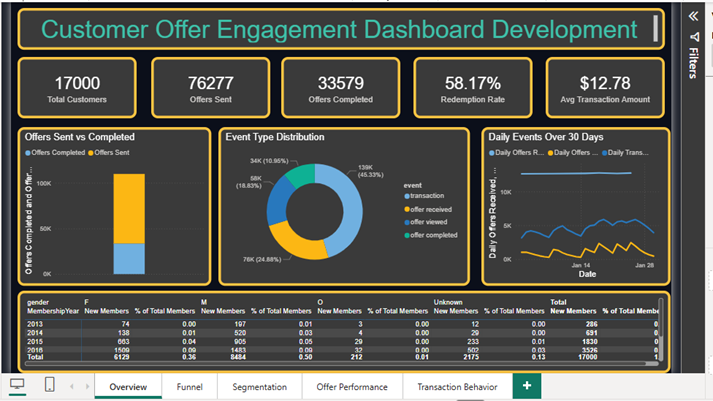

The page's visual inventory and layout, read from the dashboard file:
{"tool":"powerbi","page":{"name":"Overview","canvas":[1280,720],"ordinal":0},"visuals":[{"type":"textbox","box":[12.1,11.3,1255.7,80.8],"z":0},{"type":"card","fields":{"Values":["_Measures.Total Customers"]},"box":[12.8,106.3,231,119.1],"z":1000},{"type":"card","fields":{"Values":["_Measures.Offers Sent"]},"box":[272.1,106.3,231,119.1],"z":2000},{"type":"card","fields":{"Values":["_Measures.Offers Completed"]},"box":[524.4,106.3,231,119.1],"z":3000},{"type":"card","fields":{"Values":["_Measures.Redemption Rate"]},"box":[780.9,106.3,231,119.1],"z":4000},{"type":"card","fields":{"Values":["_Measures.Avg Transaction Amount"]},"box":[1037.5,106.3,231,119.1],"z":5000},{"type":"columnChart","title":"Offers Sent vs Completed","fields":{"Y":["_Measures.Offers Completed","_Measures.Offers Sent"]},"box":[12.8,242.4,375.6,307.6],"z":6000},{"type":"donutChart","title":"Event Type Distribution","fields":{"Category":["FactEvents.event"],"Y":["_Measures.Total Events"]},"box":[402.5,242.4,487.6,307.6],"z":7000},{"type":"lineChart","title":"Daily Events Over 30 Days","fields":{"Category":["DimDate.Date"],"Y":["DimCustomer.Daily Offers Received","DimCustomer.Daily Offers Completed","DimCustomer.Daily Transactions"]},"box":[912.8,242.4,367.1,307.6],"z":8000},{"type":"pivotTable","fields":{"Rows":["DimCustomer.MembershipYear"],"Columns":["DimCustomer.gender"],"Values":["DimCustomer.New Members","_Measures.% of Total Members"]},"box":[12.8,559.8,1267.1,160.2],"z":9000}]}

Visuals, with their boxes on the page's 1280x720 design canvas (x1, y1, x2, y2). These are canvas units, not pixel positions in the 713x401 screenshot, which may show the page scaled, cropped or inside an application window:
textbox: {"x1": 12, "y1": 11, "x2": 1268, "y2": 92}
card - _Measures.Total Customers: {"x1": 13, "y1": 106, "x2": 244, "y2": 225}
card - _Measures.Offers Sent: {"x1": 272, "y1": 106, "x2": 503, "y2": 225}
card - _Measures.Offers Completed: {"x1": 524, "y1": 106, "x2": 755, "y2": 225}
card - _Measures.Redemption Rate: {"x1": 781, "y1": 106, "x2": 1012, "y2": 225}
card - _Measures.Avg Transaction Amount: {"x1": 1038, "y1": 106, "x2": 1268, "y2": 225}
"Offers Sent vs Completed" columnChart: {"x1": 13, "y1": 242, "x2": 388, "y2": 550}
"Event Type Distribution" donutChart: {"x1": 402, "y1": 242, "x2": 890, "y2": 550}
"Daily Events Over 30 Days" lineChart: {"x1": 913, "y1": 242, "x2": 1280, "y2": 550}
pivotTable - DimCustomer.MembershipYear x DimCustomer.gender: {"x1": 13, "y1": 560, "x2": 1280, "y2": 720}
